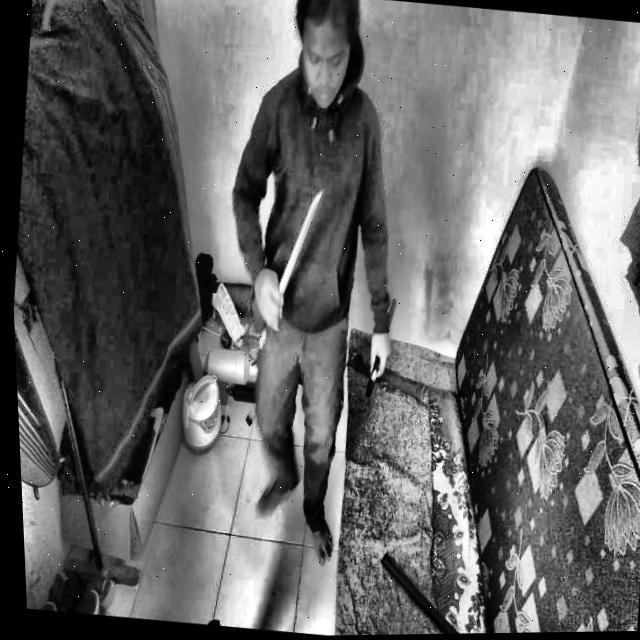pisau: (252, 184, 333, 354)
